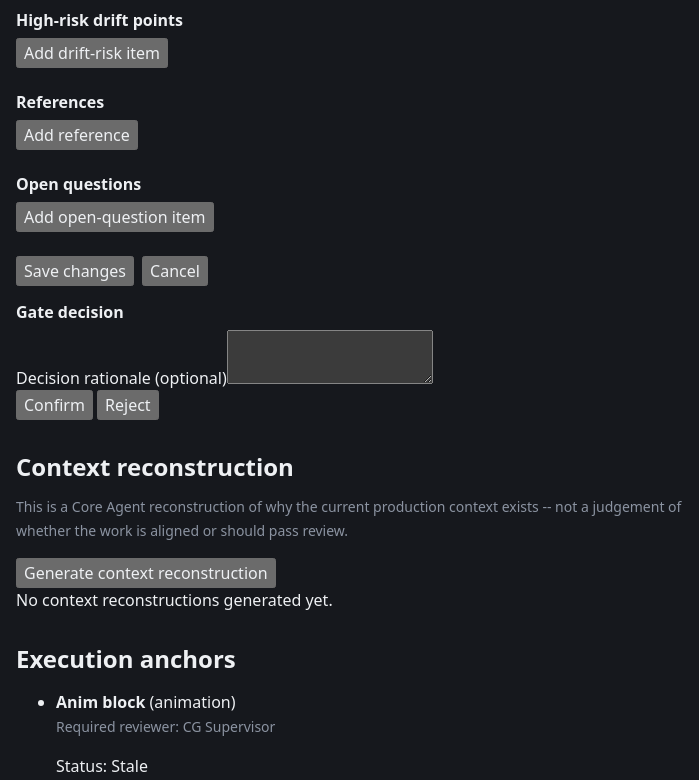
Scenario: ShotAnchorPage › surfaces a 409 conflict from the backend (e.g. a concurrent edit)
(page scrolled)
Click the button "Reject".
click(128, 405)  # box [97, 390, 159, 420]
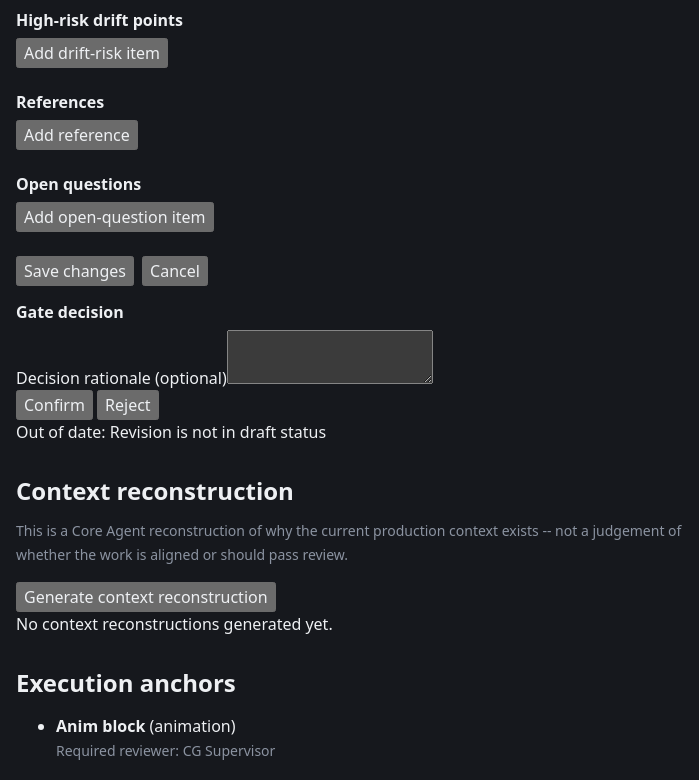
Now the message shows "Out of date", box [16, 421, 326, 443]
